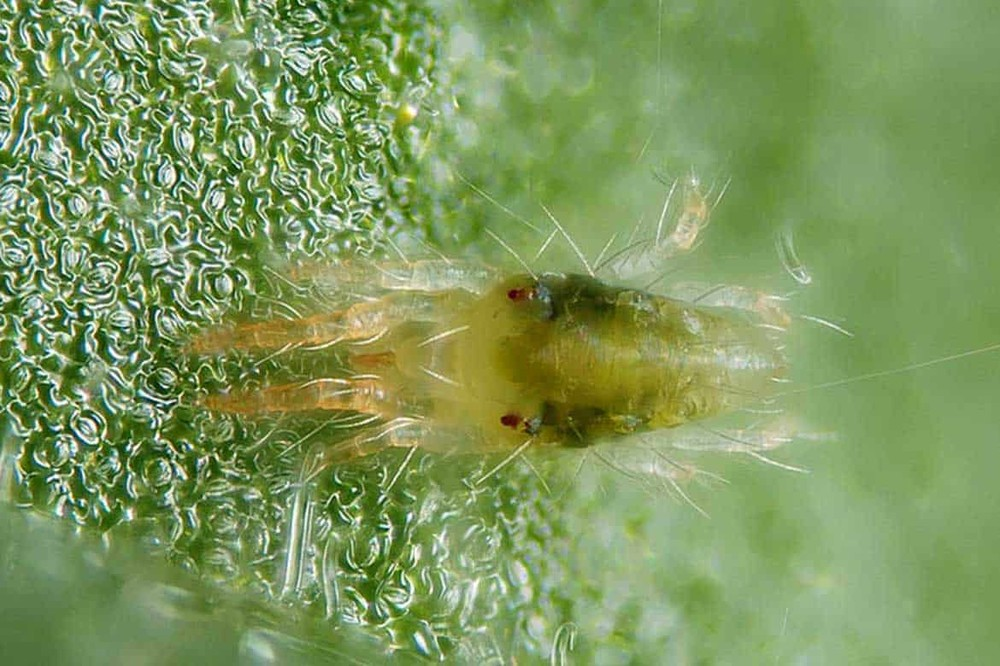Aracnido Rojo: (190, 185, 844, 525)
